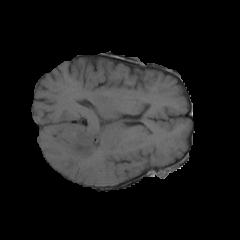glioma: (45, 124, 119, 168)
